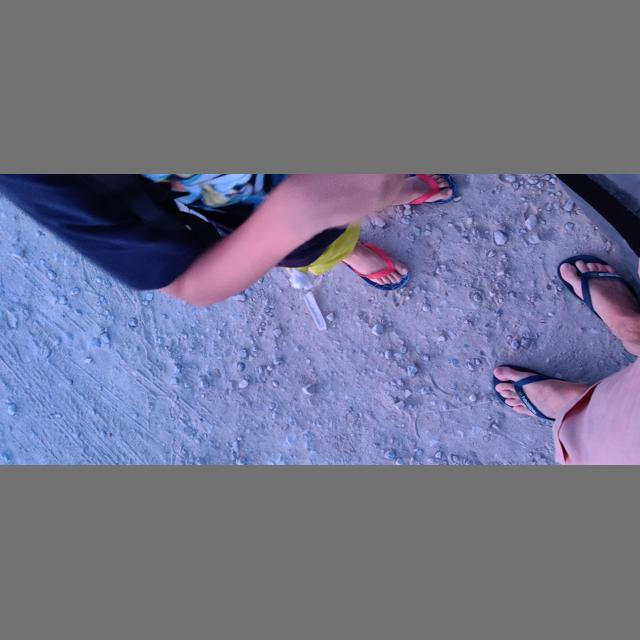litter: (302, 291, 327, 331)
